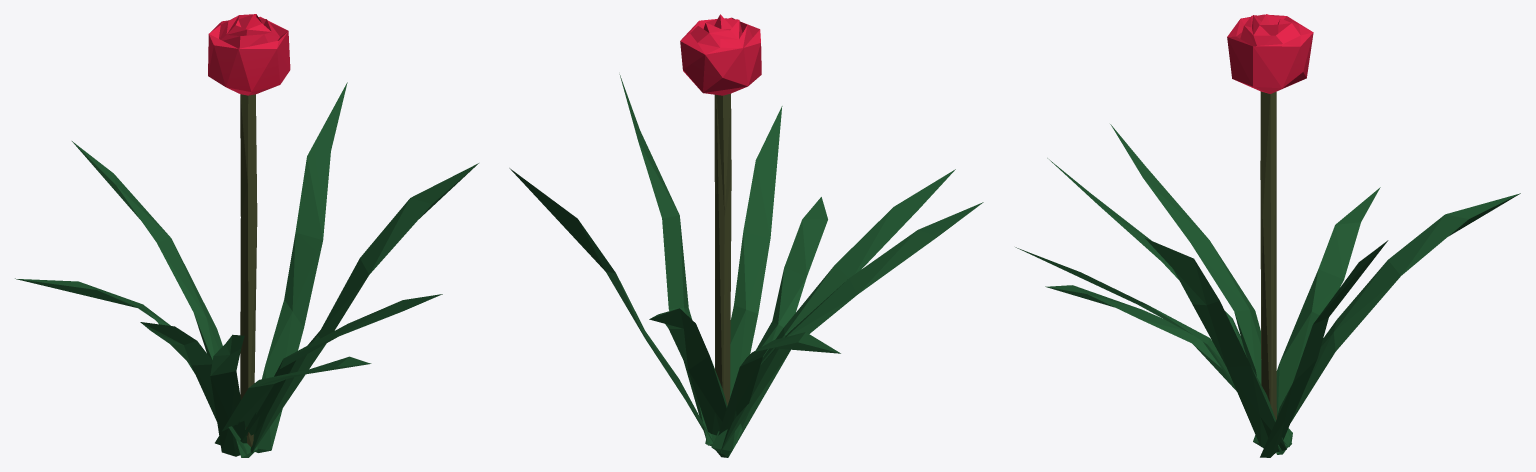
Rendered from Flower.fbx.
The picture shows the model from 3 angles, left to right: view 1: azimuth 30°, elevation 25°; view 2: azimuth 150°, elevation 25°; view 3: azimuth 270°, elevation 25°; orthographic projection. The views are drawn at different scales.
Visible parts, largest first — view 1: Flower; view 2: Flower; view 3: Flower.
Part boxes in pixels (x1,y1,x2,y2): Flower: [15, 14, 478, 457]; Flower: [509, 14, 983, 457]; Flower: [1015, 14, 1520, 457].
Bounding box in the file's own units: 0.758 × 0.9043 × 0.9358.
